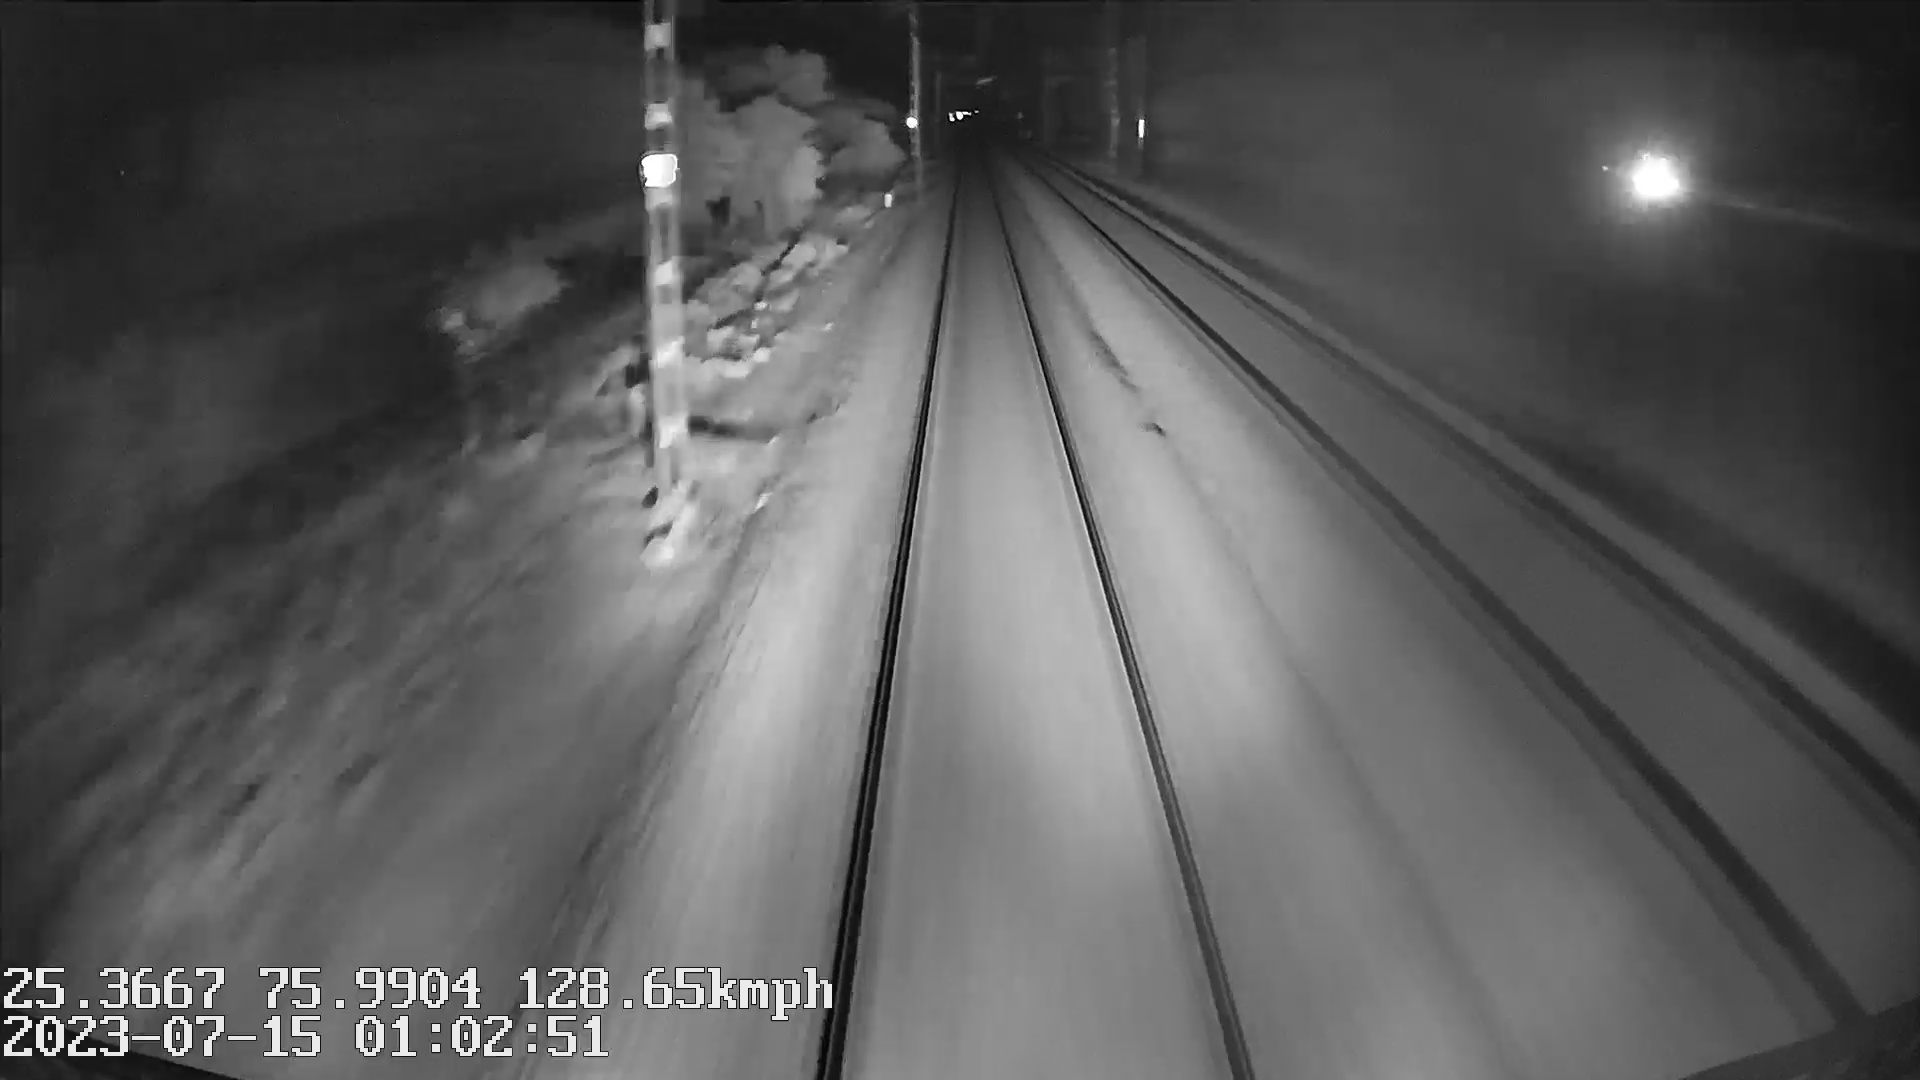track1: (832, 157, 1242, 1063)
track2: (1039, 170, 1900, 986)
